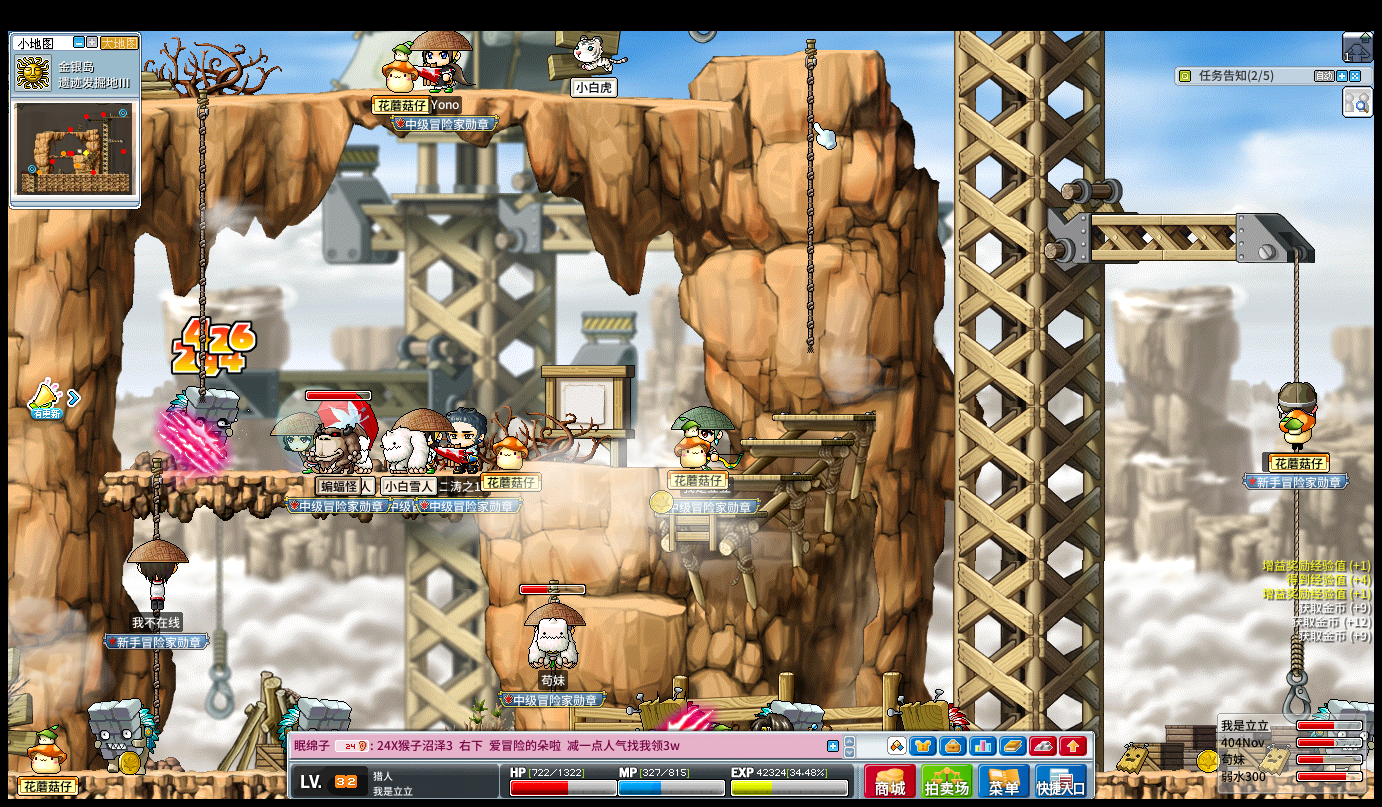floor: (143, 84, 745, 109), (99, 469, 455, 481), (1089, 209, 1285, 227), (702, 47, 882, 62), (580, 594, 686, 614), (599, 462, 781, 471), (738, 438, 849, 447), (770, 412, 878, 421), (720, 473, 811, 481)
monster: (166, 385, 239, 470), (86, 698, 159, 774)
rope: (196, 88, 209, 404), (805, 34, 817, 356), (1290, 257, 1302, 379), (148, 459, 162, 540), (1291, 600, 1303, 683), (1291, 487, 1301, 557), (150, 649, 160, 713)
